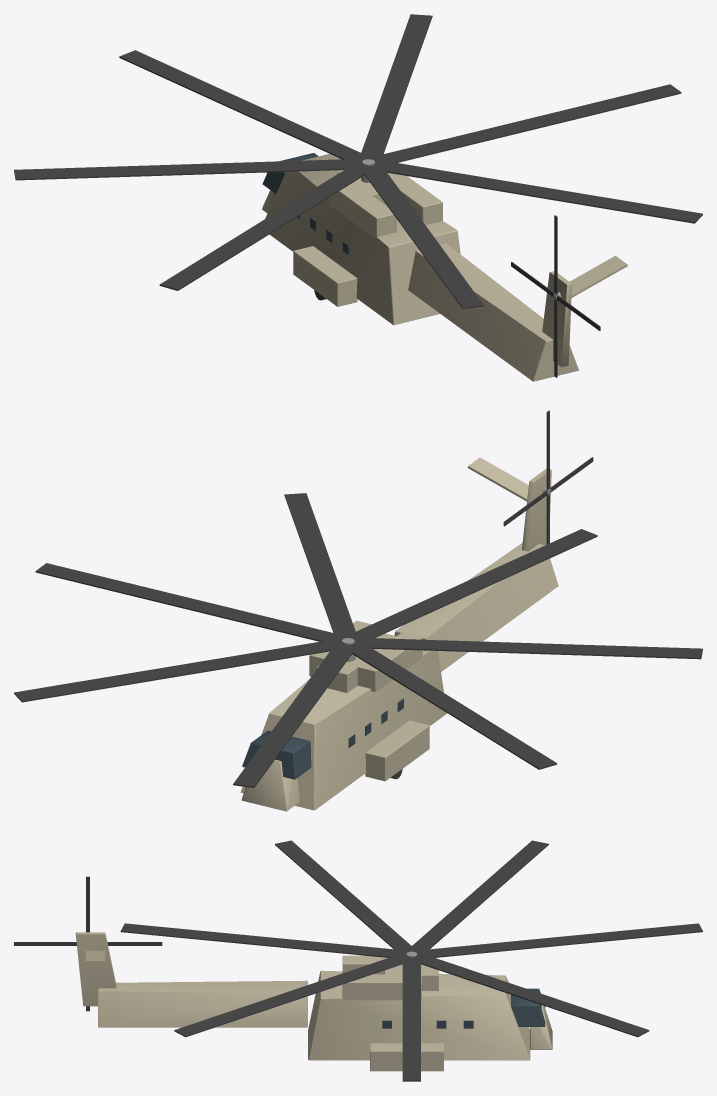
Rendered from usa_heli_ch53.glb.
3 views of the same model, one above another, from view 1: azimuth 30°, elevation 25°; view 2: azimuth 150°, elevation 25°; view 3: azimuth 270°, elevation 25° (orthographic). The views are drawn at different scales.
Visible parts, largest first — view 1: body, rotor, trotor; view 2: body, rotor, trotor; view 3: body, rotor, trotor.
Boxes of the visible parts, left/top/right/bottom form: body: left=262, top=153, right=627, bottom=381; rotor: left=14, top=14, right=702, bottom=308; trotor: left=511, top=215, right=600, bottom=377; body: left=240, top=457, right=558, bottom=811; rotor: left=14, top=493, right=702, bottom=787; trotor: left=503, top=410, right=593, bottom=544; body: left=75, top=932, right=552, bottom=1071; rotor: left=120, top=840, right=702, bottom=1081; trotor: left=14, top=876, right=162, bottom=1011.
Bounding box in the file's own units: 22.97 × 8.02 × 27.88.
